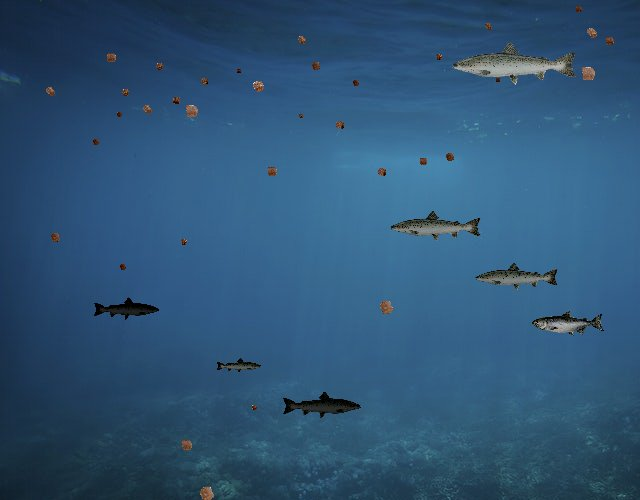Fish: (450, 40, 579, 86), (389, 209, 483, 243), (474, 261, 560, 292), (281, 391, 362, 420), (532, 310, 605, 337), (93, 296, 161, 321), (216, 358, 263, 375)
Pellet: (192, 478, 222, 500), (246, 74, 271, 99), (175, 434, 198, 457), (372, 162, 391, 181), (176, 235, 191, 250), (116, 260, 130, 274), (432, 50, 446, 64), (248, 401, 260, 413)
